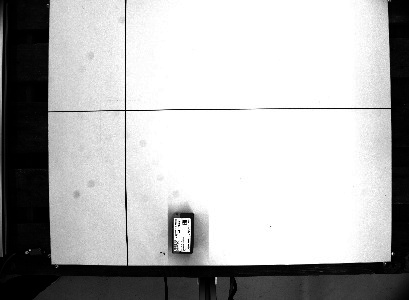b3: (170, 211, 196, 256)
